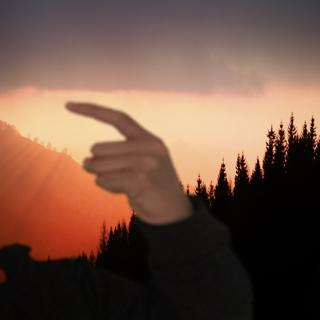WHY: (59, 93, 191, 222)
